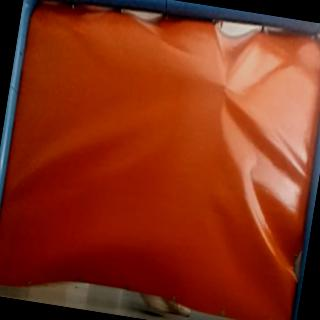Hit-hRxx: (216, 80, 233, 96)
